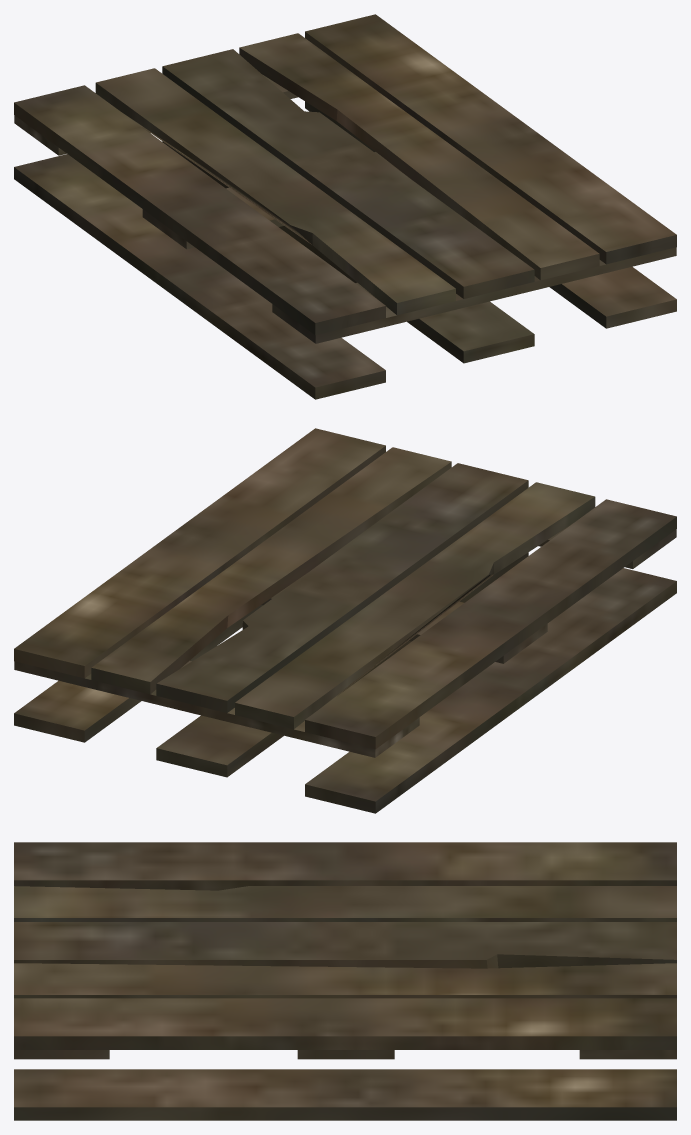
The picture shows the model from 3 angles, top to bottom: view 1: azimuth 30°, elevation 25°; view 2: azimuth 150°, elevation 25°; view 3: azimuth 270°, elevation 25°; orthographic projection. The views are drawn at different scales.
Parts seen in each view (by area): view 1: palet; view 2: palet; view 3: palet.
Part boxes in pixels (<box>): palet: <box>14,14,676,399</box>; palet: <box>14,428,676,813</box>; palet: <box>14,842,676,1120</box>.
Bounding box in the file's own units: 0.8315 × 0.1684 × 1.2.
1 material, 1 textured.
